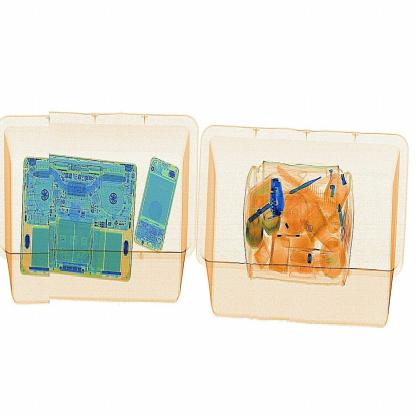scissors: (264, 173, 294, 218)
